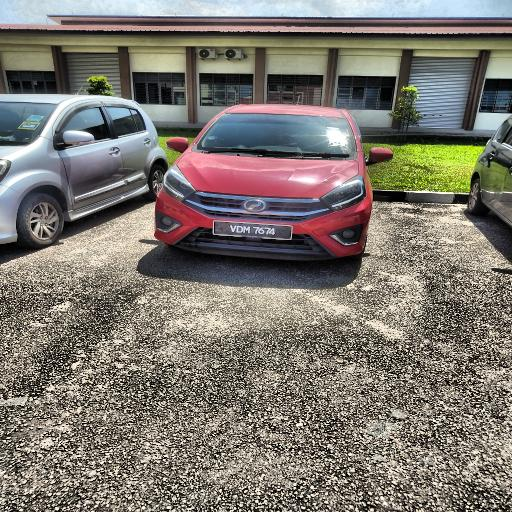license_plate: (212, 218, 291, 240)
